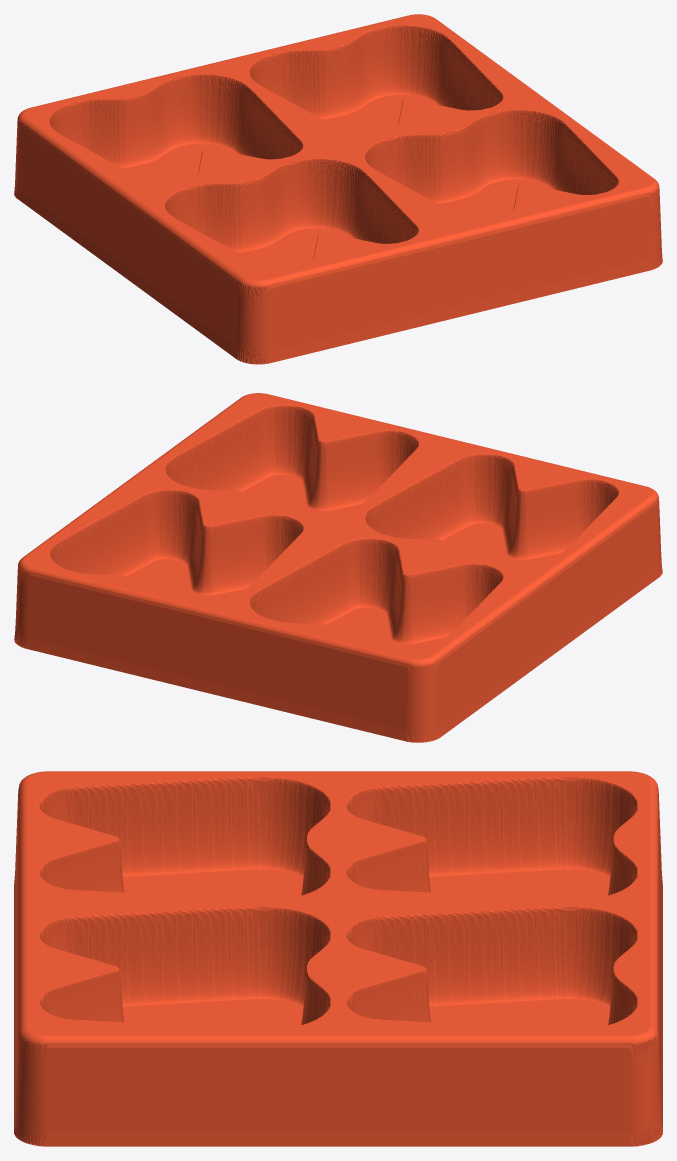
File: mold.glb
3 views of the same model, one above another, from view 1: azimuth 30°, elevation 25°; view 2: azimuth 150°, elevation 25°; view 3: azimuth 270°, elevation 25° (orthographic). The views are drawn at different scales.
Parts seen in each view (by area): view 1: geometry_0; view 2: geometry_0; view 3: geometry_0.
Part boxes in pixels (x1,y1,x2,y2): geometry_0: (14,14,662,364); geometry_0: (14,393,662,742); geometry_0: (14,771,662,1146).
Size of the model in its own units: 0.1721 by 0.031 by 0.1721.
